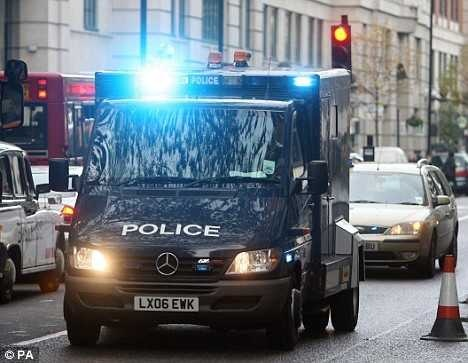Police Van: (71, 47, 363, 348)
